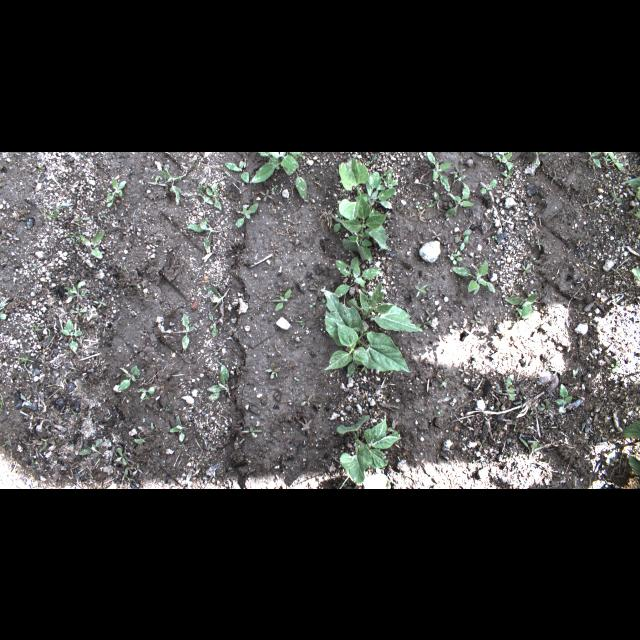crop: (320, 289, 410, 373), (336, 413, 402, 482), (345, 280, 423, 332), (342, 197, 388, 250), (337, 156, 369, 218), (363, 472, 391, 488), (621, 419, 639, 438), (625, 176, 639, 200), (629, 454, 639, 480), (632, 267, 640, 281)
weed: (252, 151, 306, 199), (332, 256, 383, 298), (355, 170, 397, 208), (452, 260, 496, 294), (354, 180, 381, 226), (188, 217, 222, 253), (160, 163, 188, 205), (426, 152, 452, 190), (206, 364, 232, 401), (444, 185, 474, 217), (342, 230, 372, 260), (178, 179, 214, 203), (171, 314, 195, 348), (503, 293, 537, 317), (59, 318, 82, 352), (224, 158, 250, 184), (81, 230, 105, 258), (12, 352, 40, 376), (208, 286, 230, 316), (519, 437, 547, 459), (118, 364, 140, 390), (169, 415, 189, 443), (343, 347, 361, 378), (20, 321, 50, 339), (554, 383, 572, 413), (235, 202, 257, 226), (375, 167, 399, 189), (66, 221, 84, 249), (272, 288, 292, 312), (278, 151, 298, 175), (78, 437, 104, 455), (107, 177, 127, 200), (206, 182, 222, 210), (518, 302, 534, 330), (331, 208, 349, 232), (134, 422, 154, 443), (274, 151, 300, 167), (500, 376, 516, 402), (64, 280, 86, 298), (208, 311, 222, 337), (582, 151, 602, 169), (258, 152, 280, 168), (532, 151, 550, 169), (496, 152, 514, 170), (452, 171, 470, 189), (43, 203, 63, 219), (607, 152, 623, 170), (480, 178, 498, 194), (454, 228, 472, 244), (136, 385, 156, 399), (264, 361, 278, 379), (146, 173, 168, 184), (0, 296, 10, 320), (116, 446, 128, 466), (354, 357, 368, 373), (502, 166, 514, 184), (38, 437, 51, 453), (242, 426, 262, 436), (388, 420, 398, 440), (457, 364, 471, 378), (604, 451, 618, 464), (69, 306, 87, 316), (549, 168, 559, 186), (428, 190, 439, 206), (416, 318, 432, 329), (460, 233, 470, 250), (19, 394, 33, 406), (260, 188, 274, 200), (122, 468, 136, 480), (452, 162, 466, 174), (450, 250, 462, 264), (414, 284, 428, 296), (339, 474, 351, 488), (233, 436, 245, 449), (583, 197, 595, 210), (132, 463, 144, 475), (301, 394, 313, 406), (540, 399, 552, 411), (441, 194, 453, 206), (1, 433, 11, 447), (612, 359, 622, 373), (522, 262, 532, 276), (470, 316, 484, 326), (74, 215, 90, 223), (477, 439, 487, 451), (610, 192, 622, 202), (627, 190, 639, 200), (425, 309, 435, 321), (30, 262, 44, 270), (93, 300, 107, 308), (439, 377, 449, 388), (367, 154, 378, 164), (185, 452, 195, 462), (604, 205, 614, 215), (432, 230, 442, 240), (107, 194, 115, 206), (622, 398, 632, 407), (285, 359, 293, 369), (178, 440, 186, 450), (296, 320, 306, 328), (382, 168, 392, 176), (536, 237, 542, 250), (36, 170, 42, 182), (573, 366, 579, 378), (349, 366, 358, 374), (575, 242, 583, 250), (490, 234, 498, 242), (530, 406, 536, 416), (632, 236, 638, 246), (626, 208, 636, 214), (415, 203, 423, 210), (450, 248, 458, 255), (274, 368, 280, 377), (100, 212, 108, 218), (592, 220, 598, 228), (625, 223, 633, 229), (437, 408, 443, 416), (318, 296, 326, 302), (1, 394, 4, 408), (414, 408, 421, 414), (602, 156, 612, 160), (272, 184, 278, 190), (282, 214, 288, 220), (164, 334, 173, 338), (309, 302, 315, 308), (294, 376, 300, 382), (532, 288, 538, 294), (388, 369, 394, 375), (38, 164, 46, 168), (635, 209, 639, 217), (599, 428, 603, 434), (314, 280, 318, 286), (514, 425, 516, 433), (170, 350, 172, 354)
